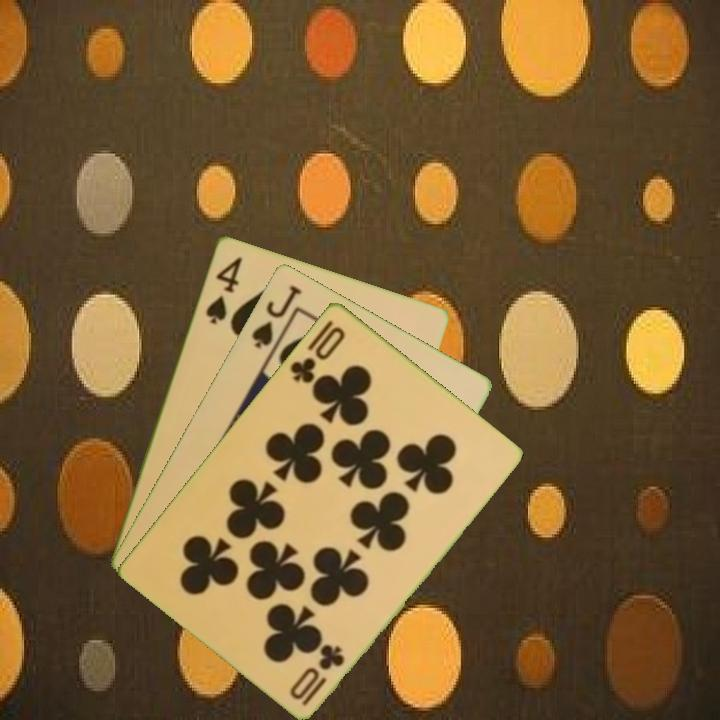10c: (286, 640, 348, 709), (286, 322, 348, 386)
4s: (202, 252, 245, 327)
Js: (247, 281, 304, 351)
